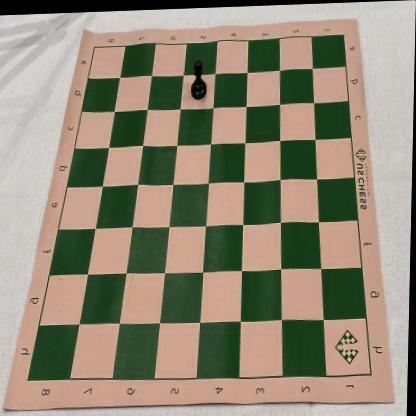black-pawn: (190, 60, 208, 98)
